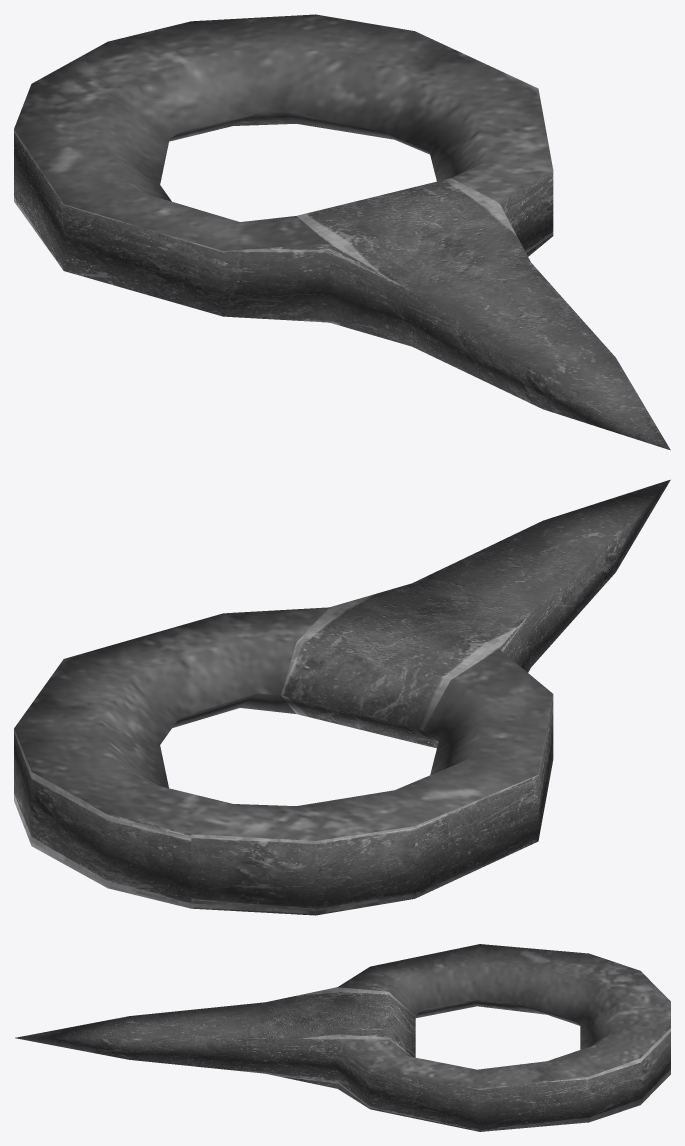
The model's file is MetalIning.fbx.
3 renders of one model, top to bottom at view 1: azimuth 30°, elevation 25°; view 2: azimuth 150°, elevation 25°; view 3: azimuth 270°, elevation 25°, orthographic. The views are drawn at different scales.
Parts seen in each view (by area): view 1: MetalIning; view 2: MetalIning; view 3: MetalIning.
Boxes of the visible parts, x1,y1,x2,y2 form: MetalIning: [14, 14, 670, 450]; MetalIning: [14, 479, 670, 915]; MetalIning: [15, 944, 670, 1131].
Size of the model in its own units: 20.72 by 3.28 by 39.42.
